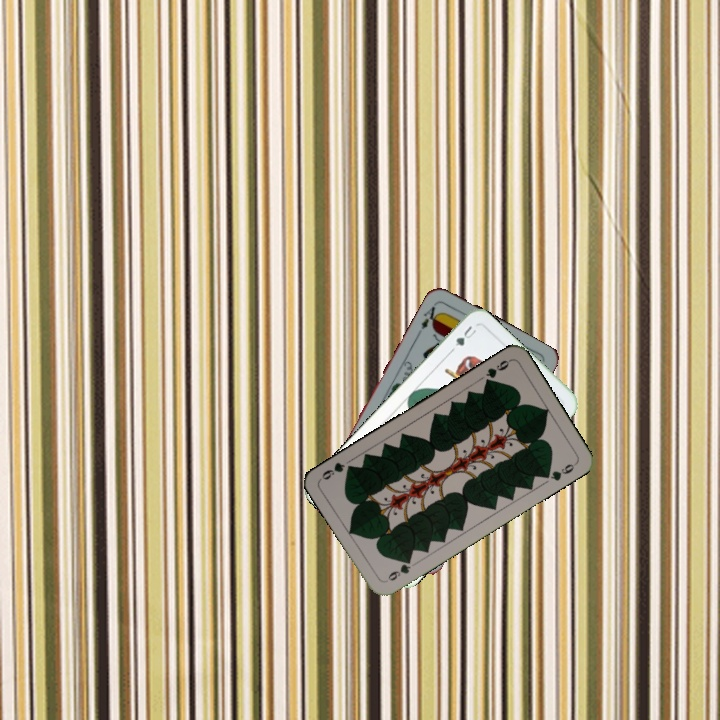EA: (417, 299, 443, 332)
G9: (481, 355, 513, 387), (381, 554, 414, 585)
GU: (447, 321, 479, 354)
